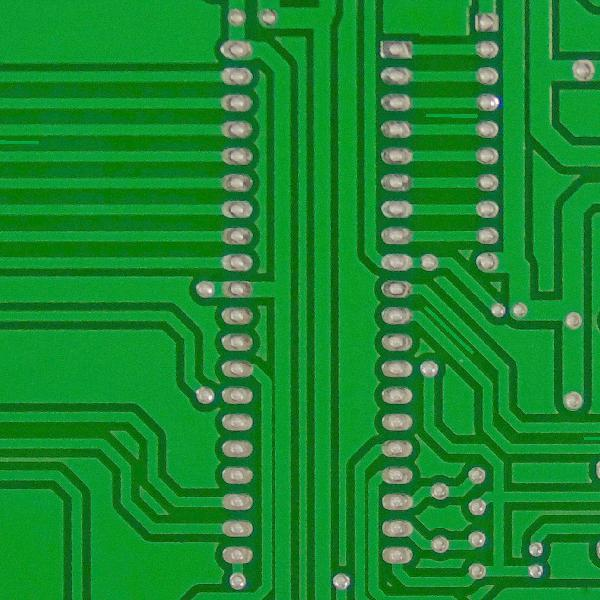spurious_copper: (422, 302, 477, 357), (418, 106, 484, 128), (1, 129, 41, 151), (578, 428, 599, 450)
